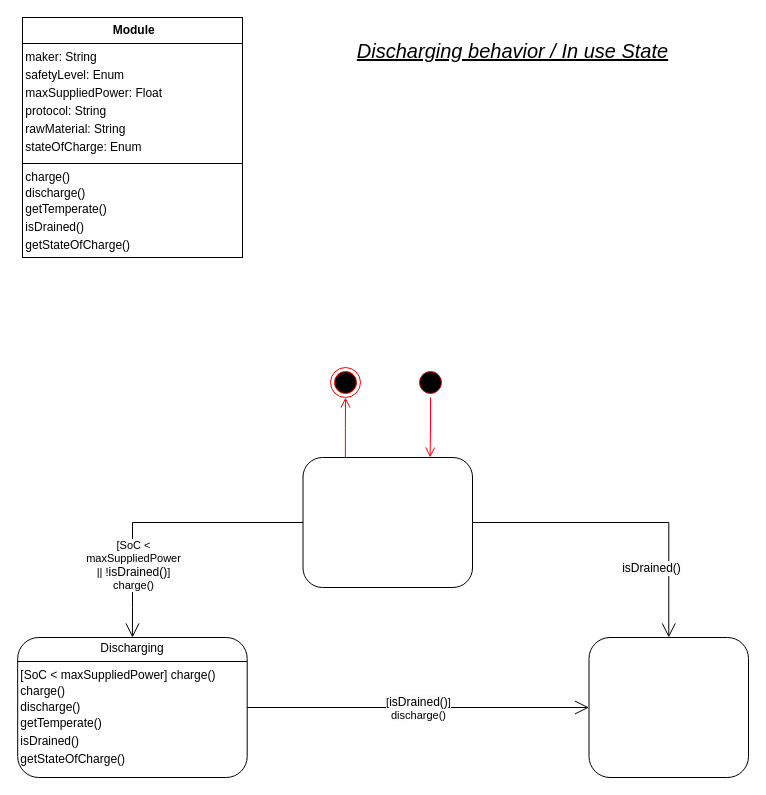
Some shapes in this 766 by 795 pixel diagram are drawn without their labels. The shapes that lost their labels are listed below. From the top down, each one's centre as x and y in pixels, then its label:
(x=387, y=522): Idle charge() discharge() getTemperate() isDrained() getStateOfCharge()
(x=668, y=707): Drained charge() getTemperate() isDrained() getStateOfCharge()
